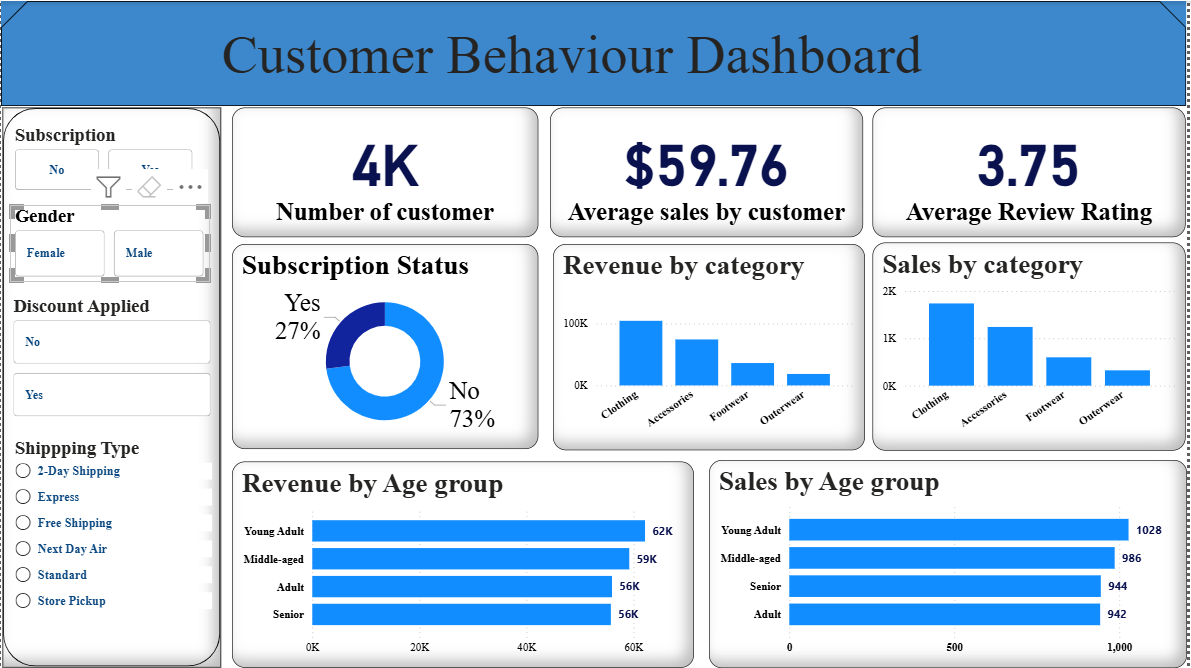

Layout of this report page (visuals, bound fields, positions):
{"tool":"powerbi","page":{"name":"Page 1","canvas":[1280,720],"ordinal":0},"visuals":[{"type":"card","fields":{"Values":["customer_satisfaction clean_customer_behaviour.Number of customer"]},"box":[249.5,115.3,330.7,139.8],"z":0},{"type":"card","fields":{"Values":["customer_satisfaction clean_customer_behaviour.Average sales by customer"]},"box":[593.4,115.3,338.3,139.8],"z":1000},{"type":"card","fields":{"Values":["customer_satisfaction clean_customer_behaviour.Average Review Rating"]},"box":[941.1,115.3,338.3,139.8],"z":2000},{"type":"shape","title":"Customer Behaviour Dashboard ","box":[0,0,1279.4,113.4],"z":3000},{"type":"donutChart","title":"Subscription Status","fields":{"Category":["customer_satisfaction clean_customer_behaviour.subscription_status"],"Y":["CountNonNull(customer_satisfaction clean_customer_behaviour.subscription_status)"]},"box":[249.5,262.7,330.7,221.1],"z":4000},{"type":"clusteredColumnChart","title":"Revenue by category","fields":{"Category":["customer_satisfaction clean_customer_behaviour.category"],"Y":["Sum(customer_satisfaction clean_customer_behaviour.purchase_amount)"]},"box":[595.3,262.7,336.4,223],"z":5000},{"type":"clusteredColumnChart","title":"Sales by category","fields":{"Category":["customer_satisfaction clean_customer_behaviour.category"],"Y":["CountNonNull(customer_satisfaction clean_customer_behaviour.subscription_status)"]},"box":[941.1,260.8,338.3,224.9],"z":6000},{"type":"shape","box":[1.9,115.3,236.2,604.7],"z":7000},{"type":"advancedSlicerVisual","title":"Subscription","fields":{"Values":["customer_satisfaction clean_customer_behaviour.subscription_status"]},"box":[9.7,132.8,202.4,76.1],"z":8000},{"type":"advancedSlicerVisual","title":"Gender","fields":{"Values":["customer_satisfaction clean_customer_behaviour.gender"]},"box":[9.7,220.2,215.4,82.6],"z":9000},{"type":"advancedSlicerVisual","title":"Discount Applied","fields":{"Values":["customer_satisfaction clean_customer_behaviour.discount_applied"]},"box":[8.1,317.4,223.5,136],"z":10000},{"type":"clusteredBarChart","title":"Revenue by Age group","fields":{"Category":["customer_satisfaction clean_customer_behaviour.age_group"],"Y":["Sum(customer_satisfaction clean_customer_behaviour.purchase_amount)"]},"box":[249.5,497,498.9,223],"z":11000},{"type":"clusteredBarChart","title":"Sales by Age group","fields":{"Y":["CountNonNull(customer_satisfaction clean_customer_behaviour.subscription_status)"],"Category":["customer_satisfaction clean_customer_behaviour.age_group"]},"box":[764.1,495.1,515.9,224.9],"z":12000},{"type":"textbox","box":[233.2,19.4,906.8,93.9],"z":13000},{"type":"listSlicer","title":"Shippping Type","fields":{"Values":["customer_satisfaction clean_customer_behaviour.shipping_type"]},"box":[9.7,471.2,223.5,247.7],"z":14000}]}

Visuals, with their boxes in screenshot pixels (x1, y1, x2, y2), scaled from the page's 1280x720 canvas onto the 1191x668 screenshot:
card - customer_satisfaction clean_customer_behaviour.Number of customer: [x1=232, y1=107, x2=540, y2=237]
card - customer_satisfaction clean_customer_behaviour.Average sales by customer: [x1=552, y1=107, x2=867, y2=237]
card - customer_satisfaction clean_customer_behaviour.Average Review Rating: [x1=876, y1=107, x2=1190, y2=237]
"Customer Behaviour Dashboard " shape: [x1=0, y1=0, x2=1190, y2=105]
"Subscription Status" donutChart: [x1=232, y1=244, x2=540, y2=449]
"Revenue by category" clusteredColumnChart: [x1=554, y1=244, x2=867, y2=451]
"Sales by category" clusteredColumnChart: [x1=876, y1=242, x2=1190, y2=451]
shape: [x1=2, y1=107, x2=222, y2=667]
"Subscription" advancedSlicerVisual: [x1=9, y1=123, x2=197, y2=194]
"Gender" advancedSlicerVisual: [x1=9, y1=204, x2=209, y2=281]
"Discount Applied" advancedSlicerVisual: [x1=8, y1=294, x2=215, y2=421]
"Revenue by Age group" clusteredBarChart: [x1=232, y1=461, x2=696, y2=667]
"Sales by Age group" clusteredBarChart: [x1=711, y1=459, x2=1190, y2=667]
textbox: [x1=217, y1=18, x2=1061, y2=105]
"Shippping Type" listSlicer: [x1=9, y1=437, x2=217, y2=667]
